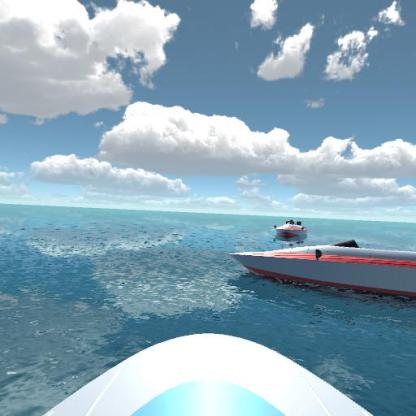usv3: (222, 235, 415, 306), (271, 214, 312, 243)
